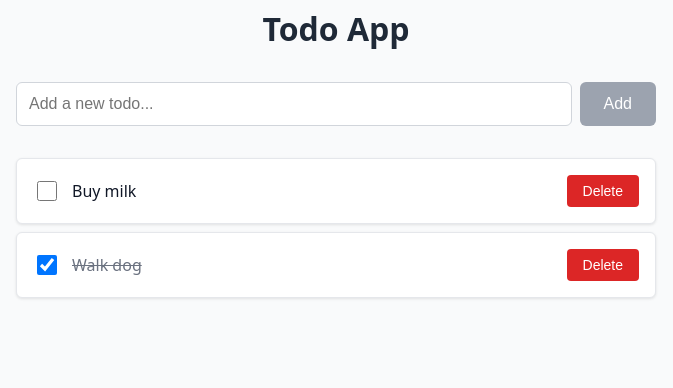
App › shows error when toggle fails
This screenshot has width=673, height=388.
Expected: the text "Buy milk" is shown, [72,180,136,202]
Click the 1st checkbox with test id "todo-checkbox".
click(47, 191)  # box [37,181,57,201]
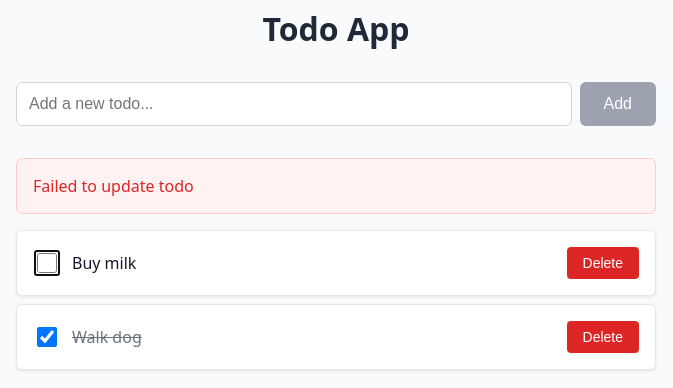
Expected: the text "Failed to update todo" is shown, [16,158,656,214]
